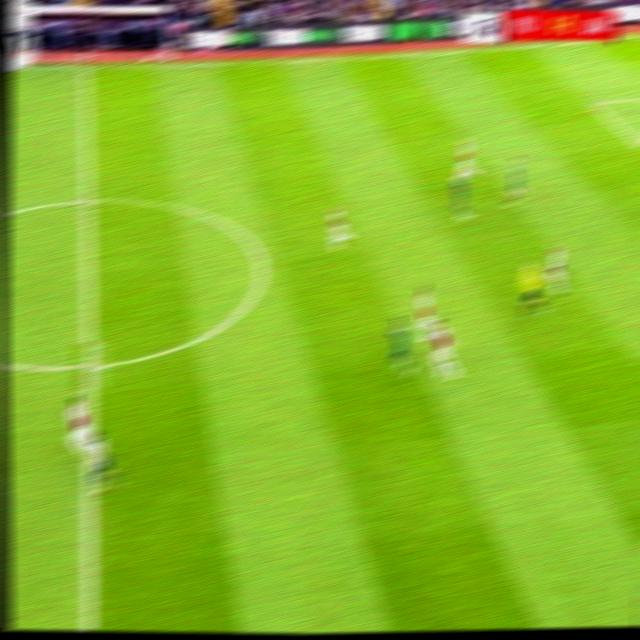bigarea_top_inner: (581, 91, 606, 115)
halfcircle_bottom: (70, 342, 109, 389)
halfcircle_top: (69, 180, 106, 218)
midline_top_intersection: (71, 53, 101, 81)
